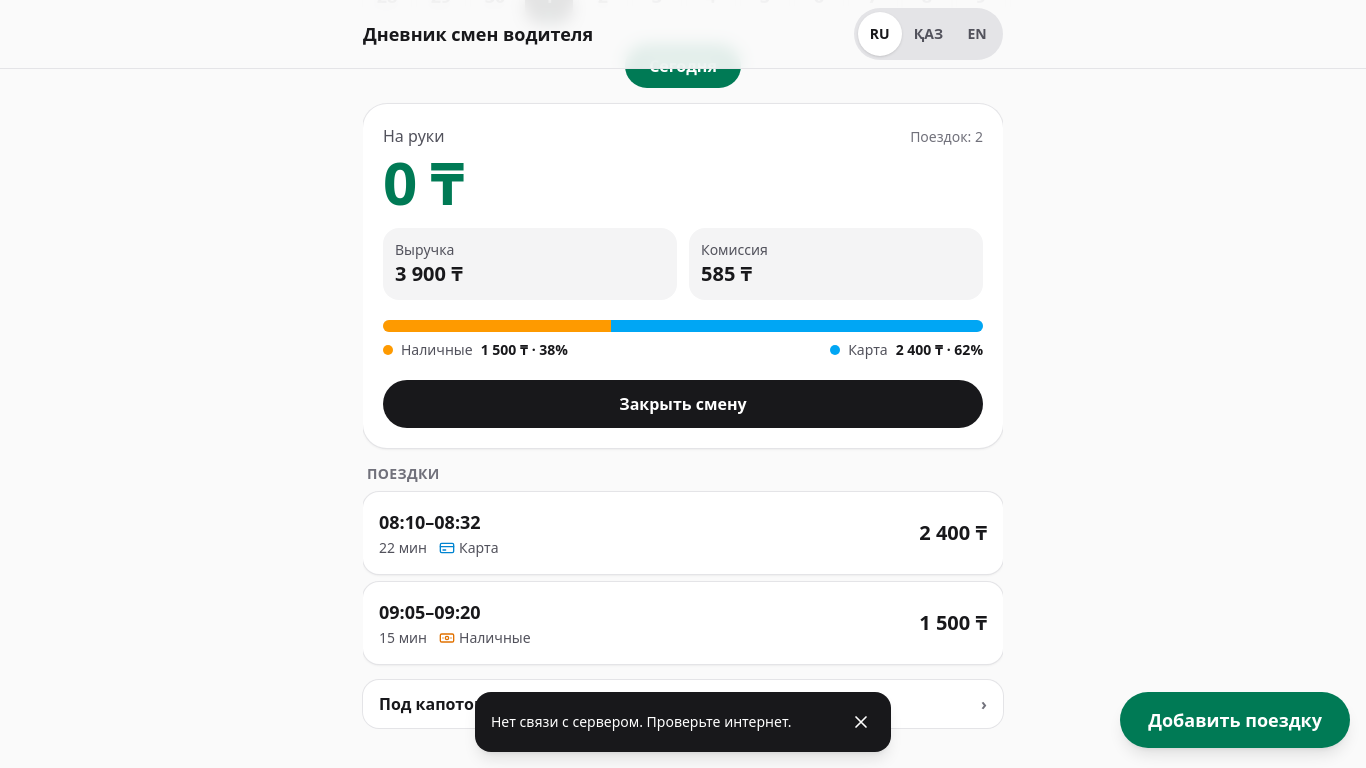
Test: day swipe › swipe left past 60 px opens the next day
(page scrolled)
Press the mouse on the element with test id "day-swipe" at {"x": 683, "y": 384}, box [363,104,1003,664]
(page scrolled)
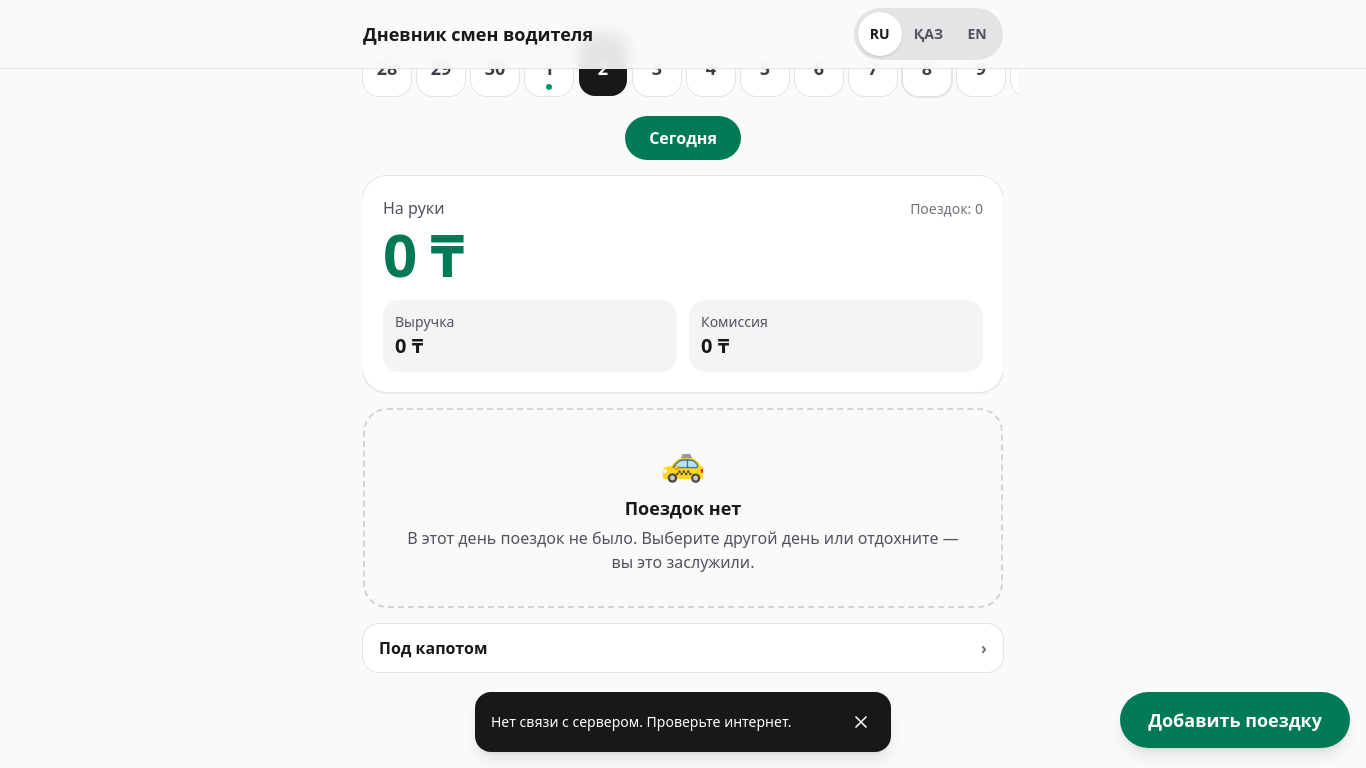
Expected: the text "Поездок нет" is shown, [625,496,741,520]
